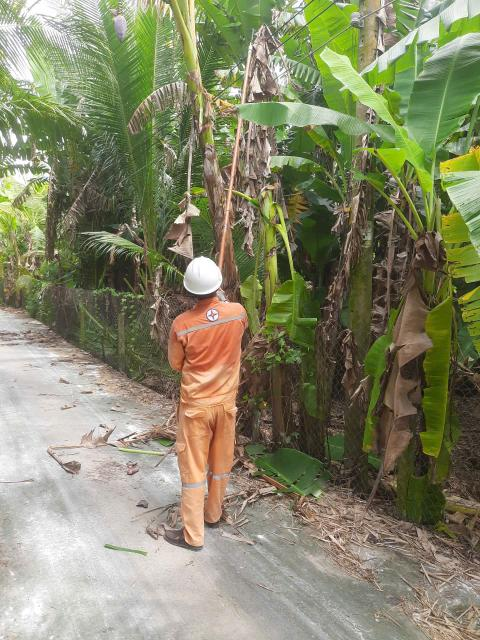helmet: (169, 255, 232, 298)
shoes: (162, 518, 209, 557)
